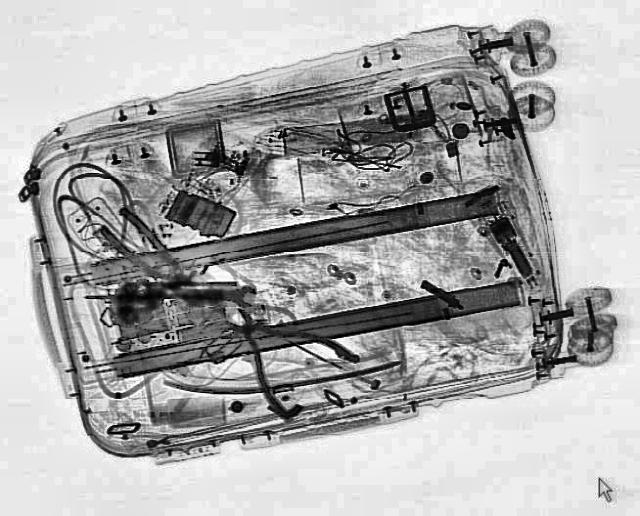Pliers: (188, 284, 370, 420), (88, 204, 220, 312)
